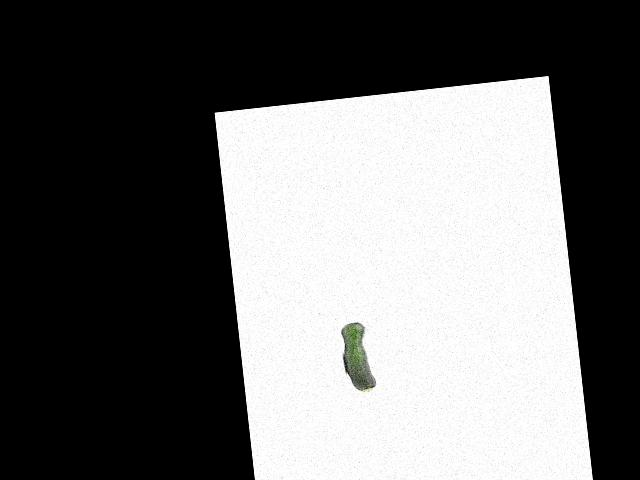cucumber: (340, 321, 376, 394)
